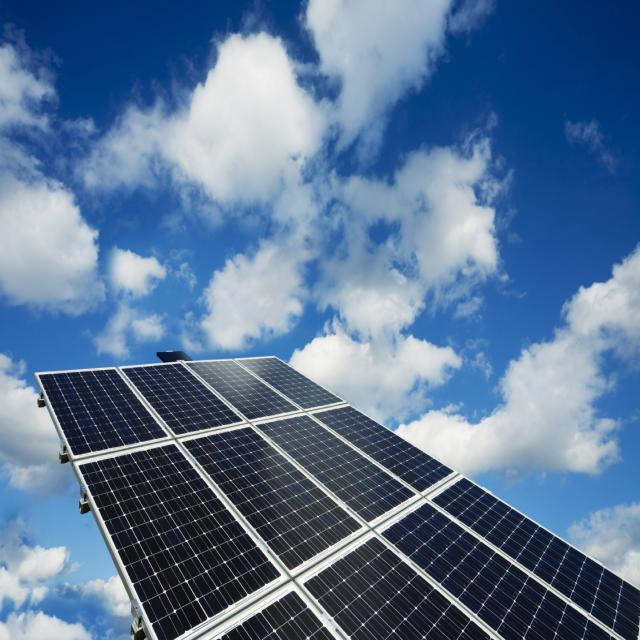clean-solar-panel: (35, 357, 640, 640)
